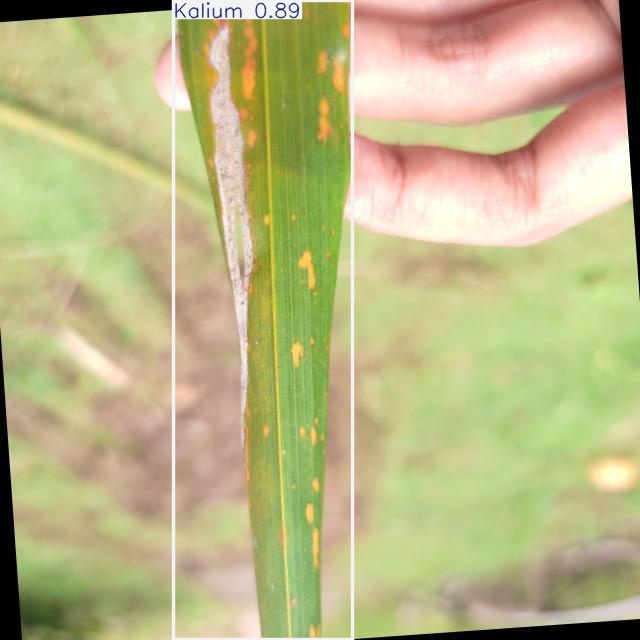Kalium: (173, 0, 352, 640)
